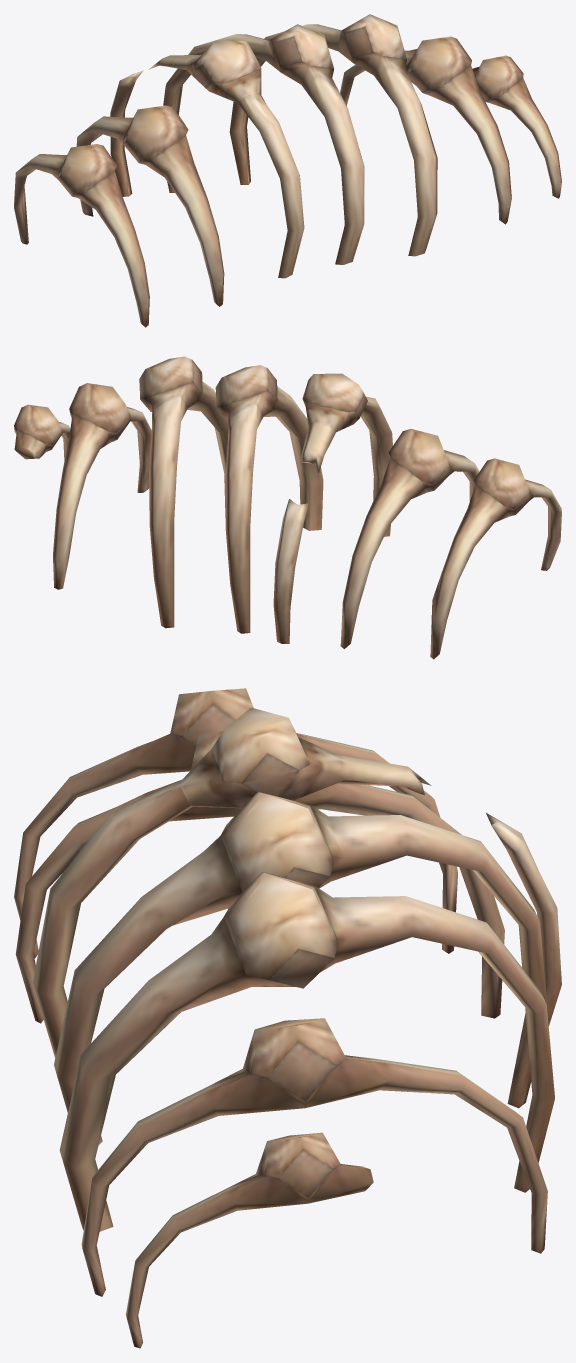
File: area_06_29.fbx
The picture shows the model from 3 angles, top to bottom: view 1: azimuth 30°, elevation 25°; view 2: azimuth 150°, elevation 25°; view 3: azimuth 270°, elevation 25°; orthographic projection. The views are drawn at different scales.
Visible parts, largest first — view 1: area_06_29; view 2: area_06_29; view 3: area_06_29.
Boxes of the visible parts, left/top/right/bottom form: area_06_29: left=14, top=14, right=561, bottom=327; area_06_29: left=14, top=356, right=561, bottom=659; area_06_29: left=14, top=688, right=561, bottom=1348.
Size of the model in its own units: 5.63 by 2.39 by 3.07.
